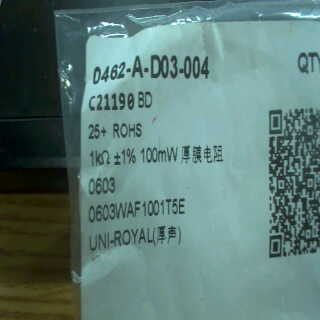1kR: (84, 145, 114, 170)
